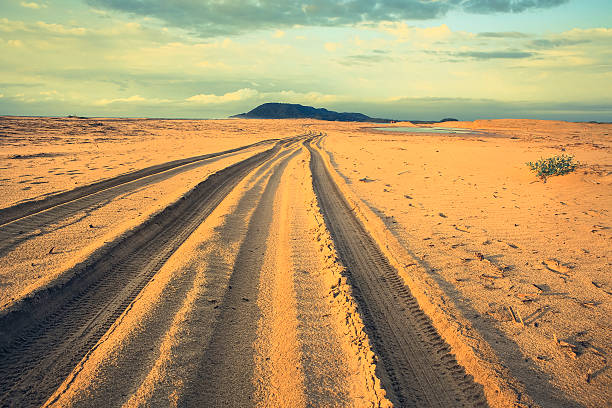vehicle_track: (0, 140, 292, 405), (305, 142, 486, 406), (0, 139, 276, 255)
